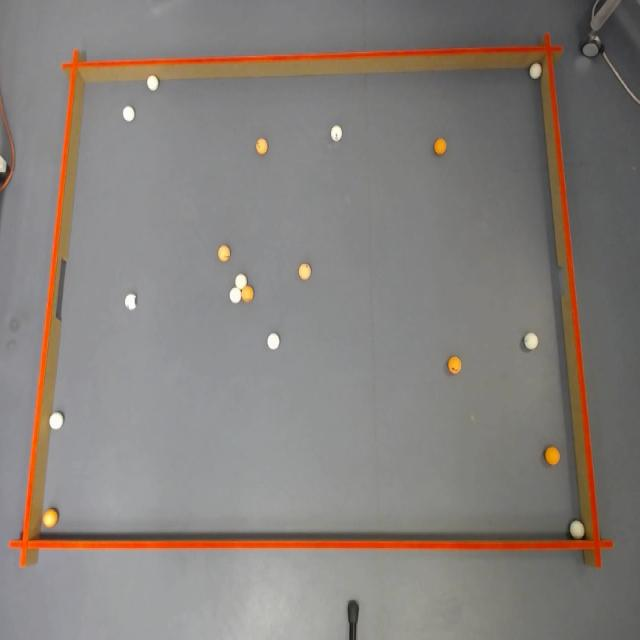orange_ball: (42, 508, 58, 528), (545, 446, 560, 466), (448, 356, 461, 374), (434, 138, 446, 155), (218, 245, 230, 262), (298, 263, 310, 279), (242, 286, 254, 302), (256, 138, 267, 155)
white_ball: (569, 520, 585, 539), (49, 412, 64, 430), (524, 333, 538, 350), (529, 62, 542, 80), (268, 333, 280, 349), (125, 294, 137, 310), (235, 273, 247, 289), (123, 105, 134, 122), (331, 125, 342, 142), (147, 75, 158, 91), (230, 288, 241, 304)
